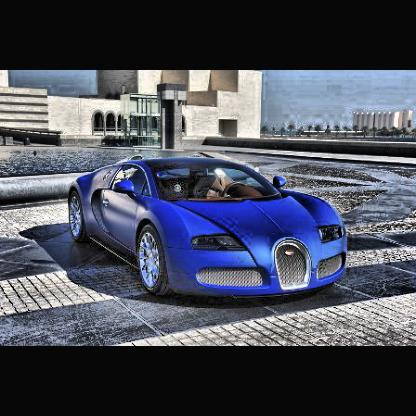Bugatti Veyron 16-4 Coupe 2009: (67, 151, 351, 301)
